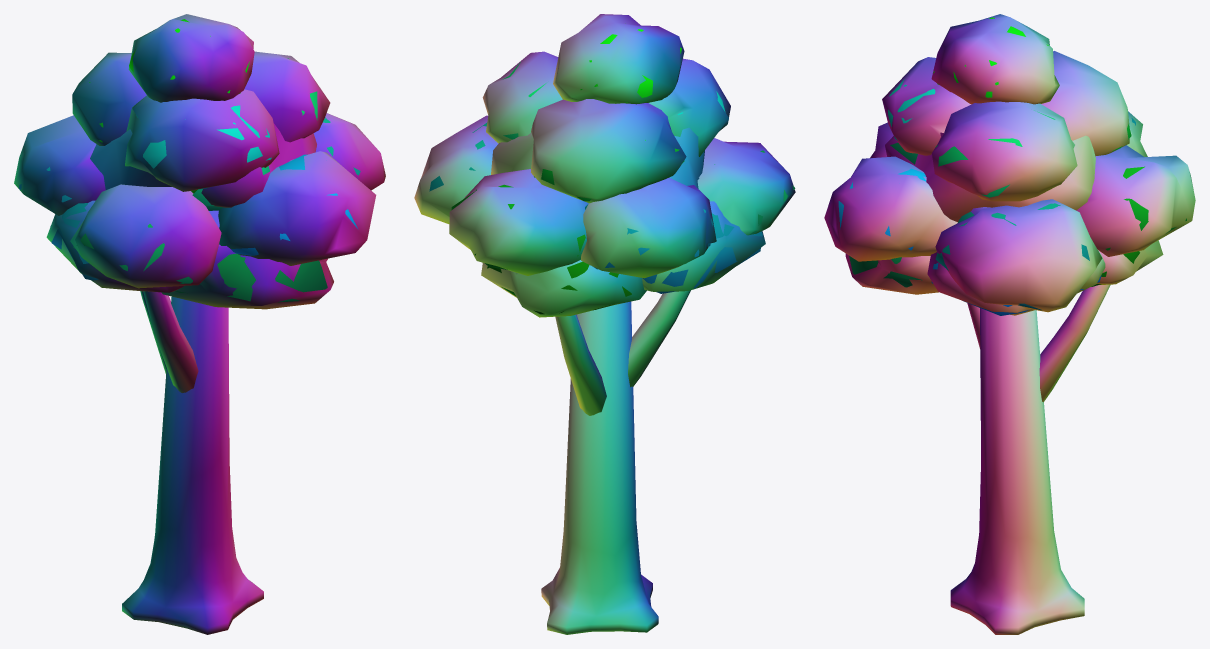
File: SM_Foliage_Plains_Oak_C_LOD1.fbx
3 views of the same model, side by side, from view 1: azimuth 30°, elevation 25°; view 2: azimuth 150°, elevation 25°; view 3: azimuth 270°, elevation 25° (orthographic). The views are drawn at different scales.
Visible parts, largest first — view 1: SM_Foliage_Plains_Oak_C_LOD1; view 2: SM_Foliage_Plains_Oak_C_LOD1; view 3: SM_Foliage_Plains_Oak_C_LOD1.
Part boxes in pixels (<box>): SM_Foliage_Plains_Oak_C_LOD1: <box>14,14,385,634</box>; SM_Foliage_Plains_Oak_C_LOD1: <box>414,14,795,634</box>; SM_Foliage_Plains_Oak_C_LOD1: <box>824,14,1195,634</box>.
Size of the model in its own units: 2.29 by 3.97 by 2.31.
